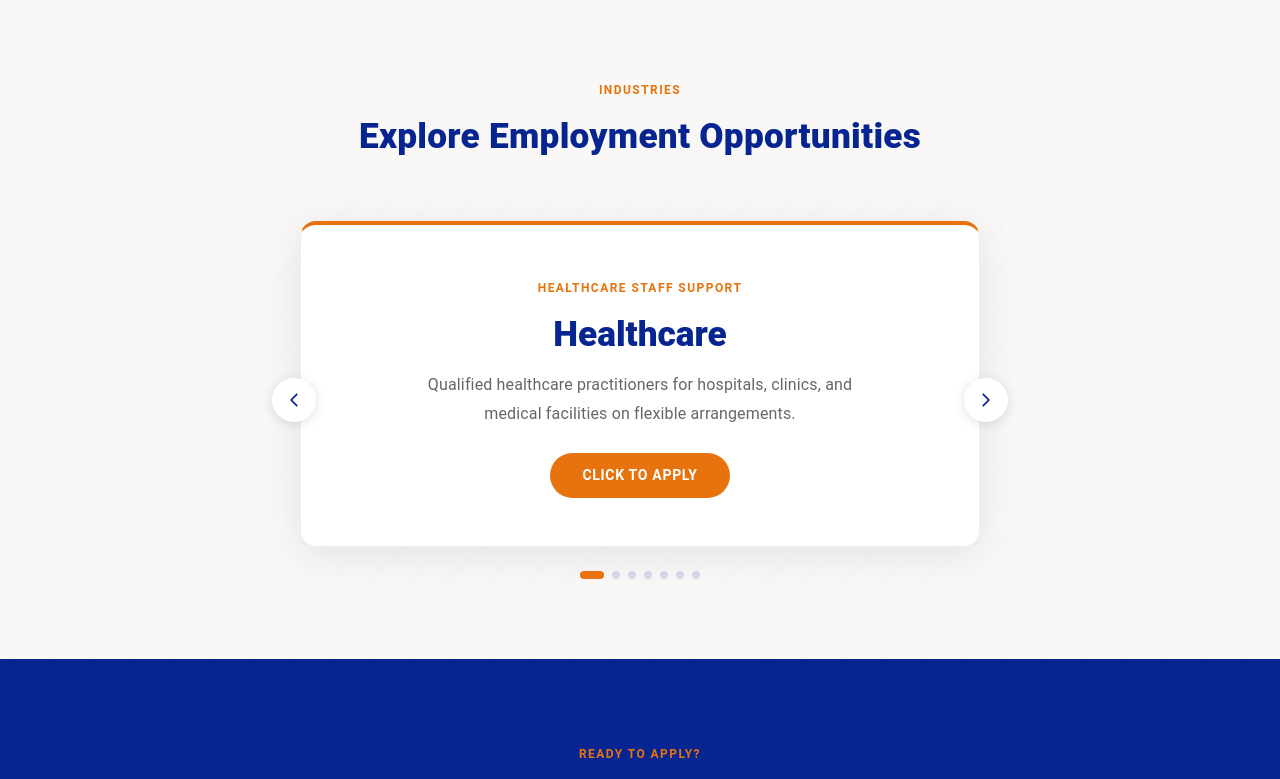
Test: Card slideshow › clicking Next twice advances to third card — Finance
The width and height of the screenshot is (1280, 779).
(page scrolled)
Click the button named "next".
click(986, 400)  # box [964, 378, 1008, 422]
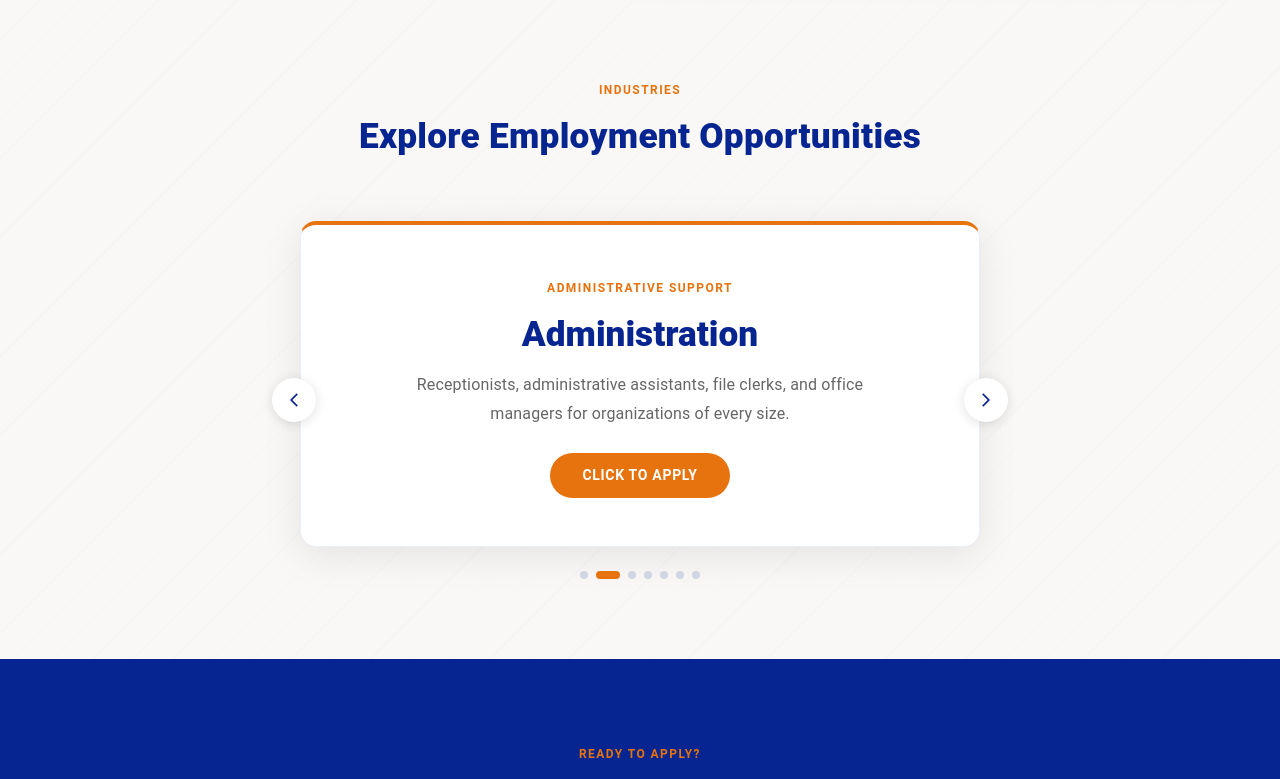
Click the button named "next".
click(986, 400)  # box [964, 378, 1008, 422]
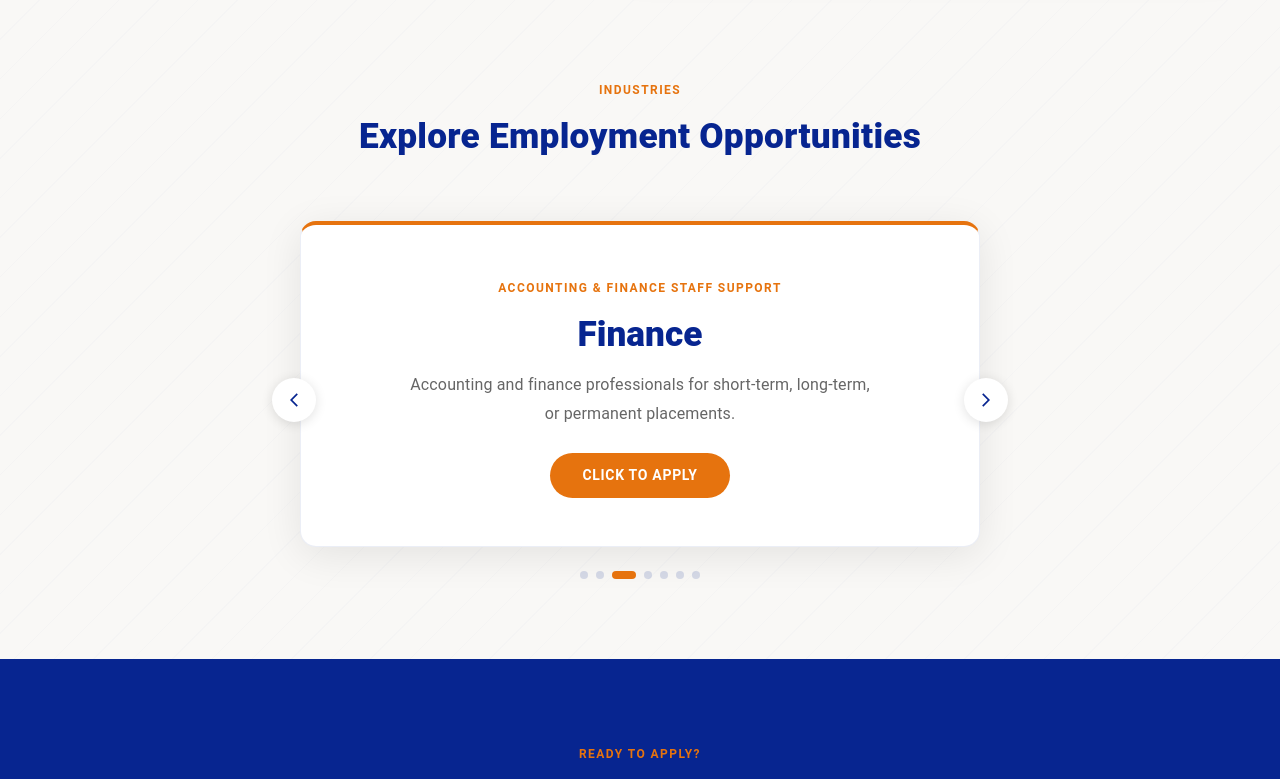
expect the heading "Finance" is shown: met, box [578, 313, 702, 355]
